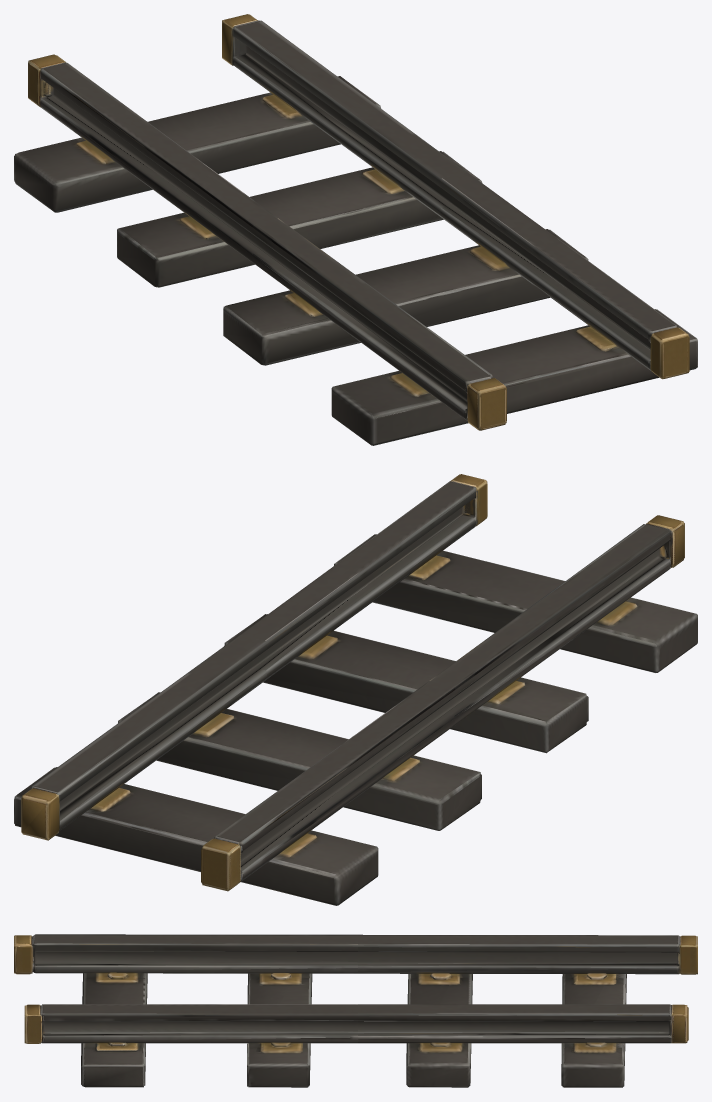
The model's file is rail_track.glb.
3 renders of one model, top to bottom at view 1: azimuth 30°, elevation 25°; view 2: azimuth 150°, elevation 25°; view 3: azimuth 270°, elevation 25°, orthographic. The views are drawn at different scales.
Visible parts, largest first — view 1: rail_track; view 2: rail_track; view 3: rail_track.
Part boxes in pixels (bbox=[...]): rail_track: bbox=[14, 14, 697, 445]; rail_track: bbox=[14, 474, 697, 905]; rail_track: bbox=[14, 934, 697, 1087].
Size of the model in its own units: 0.6641 by 0.1434 by 1.59.
Materials: 1 (1 with a texture image).
